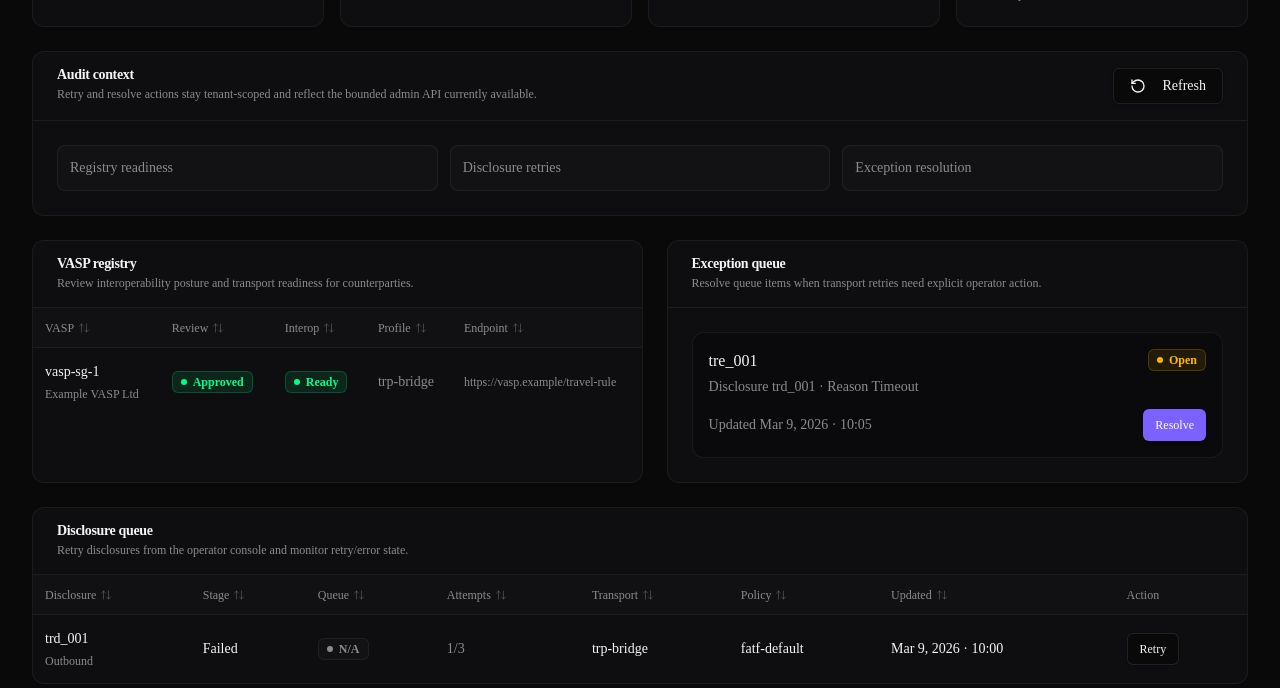
TravelRulePage › loads registry, disclosures, exceptions, retries a disclosure, and resolves an exception
The image size is (1280, 688).
(page scrolled)
expect the text "vasp-sg-1" is shown: met, box left=45, top=364, right=99, bottom=379
expect the text "Disclosure trd_001 · Reason Timeout" is shown: met, box left=708, top=377, right=918, bottom=397
Step 1. Click the button "Retry" → click(1153, 649), box left=1126, top=633, right=1179, bottom=665
(page scrolled)
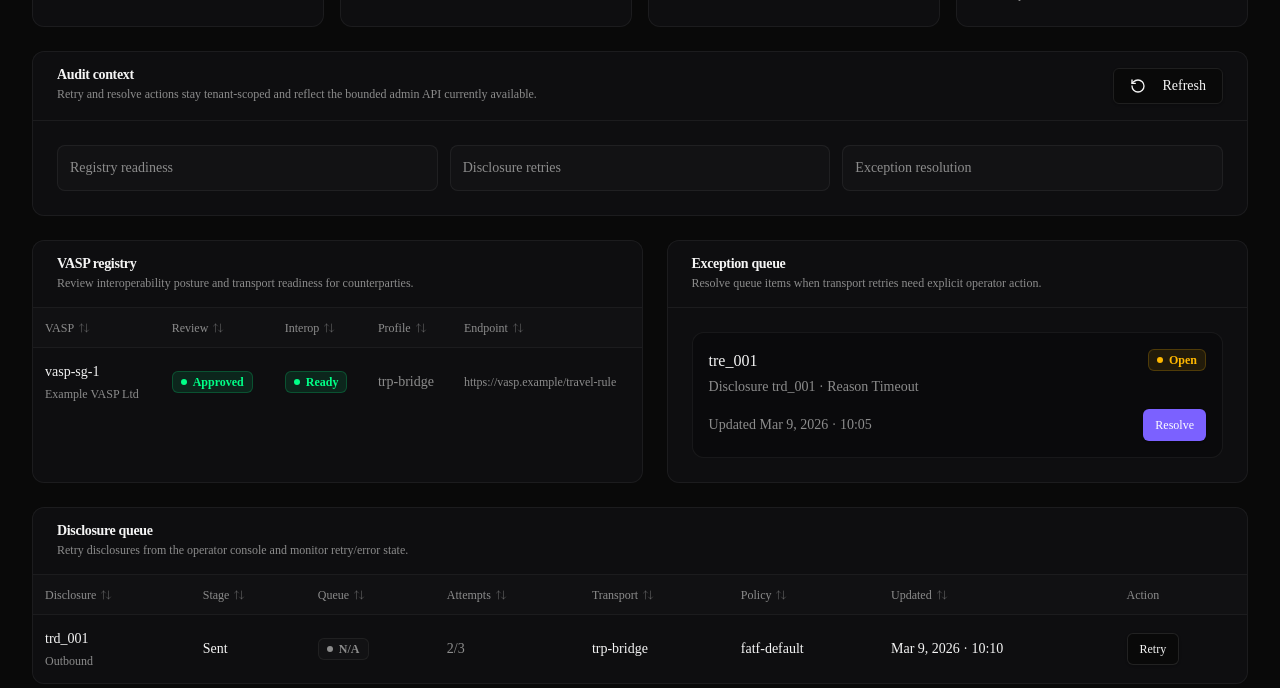
Step 2. Click the button "Resolve" → click(1175, 425), box left=1143, top=409, right=1206, bottom=441
(page scrolled)
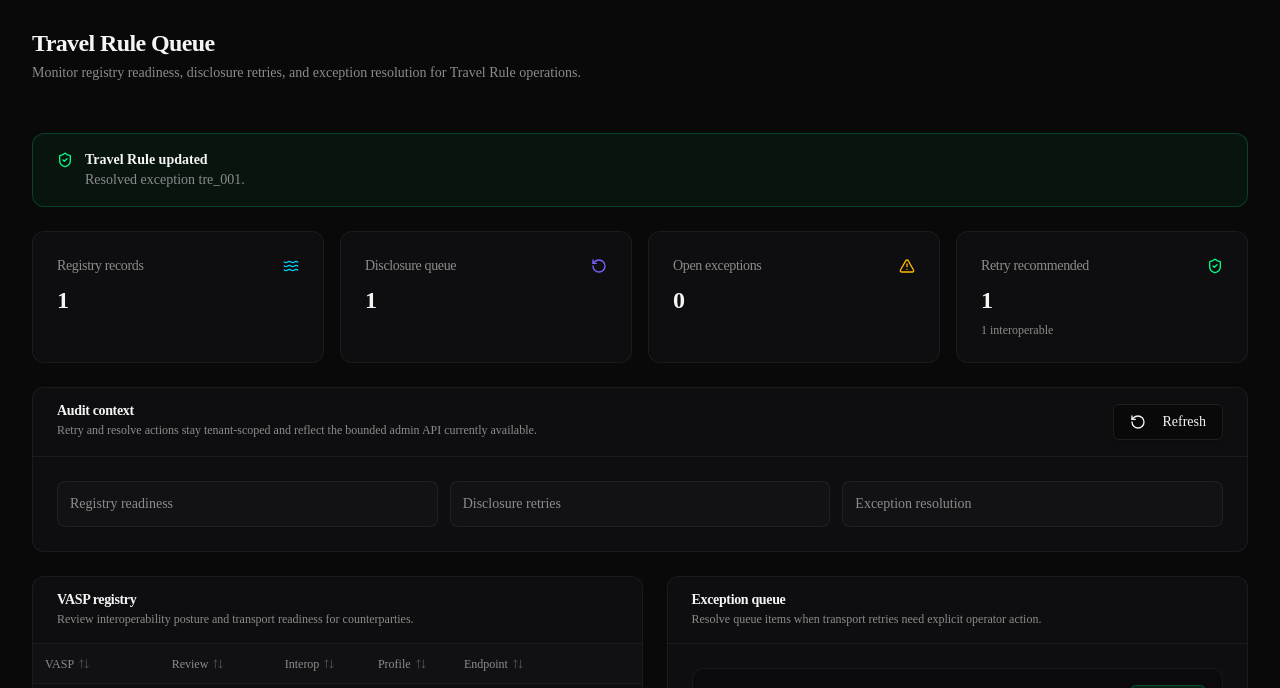
expect the text "Resolved exception tre_001." is shown: met, box left=85, top=170, right=245, bottom=190
